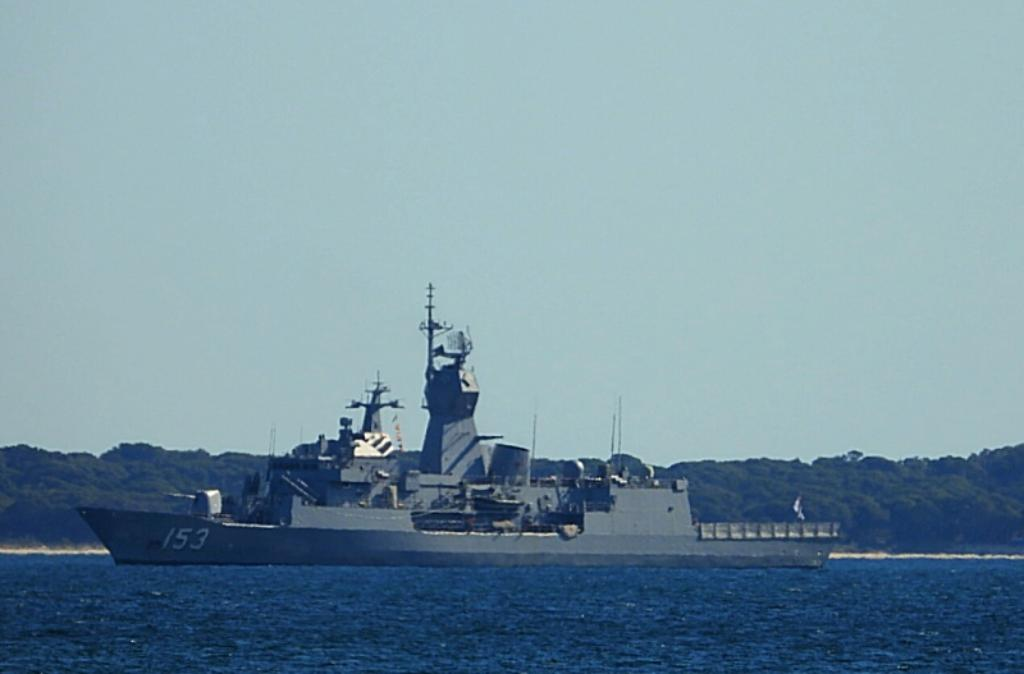Warship: (70, 276, 846, 574)
